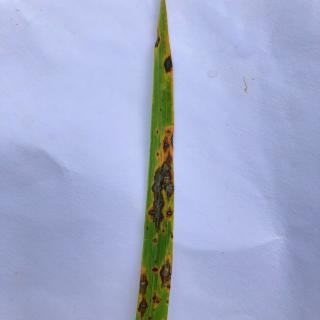Blast: (149, 165, 177, 236), (162, 128, 182, 160), (160, 49, 176, 79), (136, 295, 150, 316), (149, 288, 163, 306)
